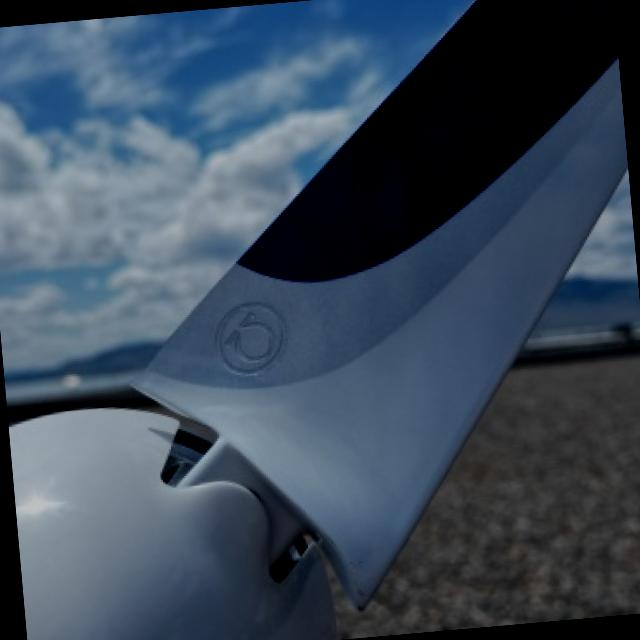healthy: (8, 0, 626, 640)
